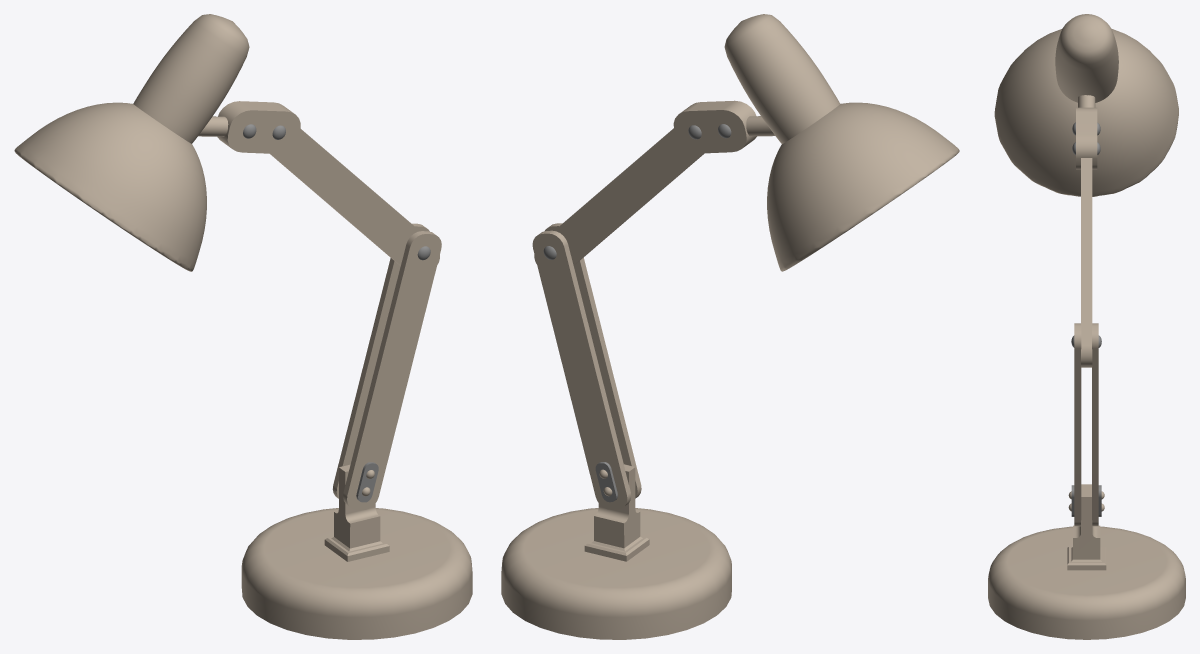
The model's file is LampeBureau2_3.fbx.
The picture shows the model from 3 angles, left to right: view 1: azimuth 30°, elevation 25°; view 2: azimuth 150°, elevation 25°; view 3: azimuth 270°, elevation 25°; orthographic projection. The views are drawn at different scales.
Parts seen in each view (by area): view 1: pCylinder754, pSphere137, pCube2006, pCylinder757, pCube2002, pCube2008, pCube2005, pCube2007; view 2: pCylinder754, pSphere137, pCube2005, pCylinder757, pCube2002, pCube2008, pCube2006, pCube2007; view 3: pSphere137, pCylinder754, pCylinder757, pCube2002, pCube2007, pCube2006, pCube2005, pCube2008.
Boxes of the visible parts, <box> form: pCylinder754: <box>241,508,472,639</box>; pSphere137: <box>14,102,206,271</box>; pCube2006: <box>343,231,441,510</box>; pCylinder757: <box>133,14,249,143</box>; pCube2002: <box>270,128,439,265</box>; pCube2008: <box>217,101,300,153</box>; pCube2005: <box>332,223,429,498</box>; pCube2007: <box>324,464,389,561</box>; pCylinder754: <box>501,508,731,639</box>; pSphere137: <box>767,102,959,271</box>; pCube2005: <box>532,230,631,509</box>; pCylinder757: <box>724,14,840,143</box>; pCube2002: <box>534,128,704,265</box>; pCube2008: <box>673,100,756,153</box>; pCube2006: <box>545,223,641,498</box>; pCube2007: <box>584,464,649,561</box>; pSphere137: <box>994,28,1178,196</box>; pCylinder754: <box>988,526,1185,639</box>; pCylinder757: <box>1055,14,1118,102</box>; pCube2002: <box>1081,158,1092,367</box>; pCube2007: <box>1067,484,1106,570</box>; pCube2006: <box>1074,323,1081,526</box>; pCube2005: <box>1092,323,1098,526</box>; pCube2008: <box>1076,107,1097,169</box>.
Bounding box in the file's own units: 23.95 × 32.81 × 11.29.
